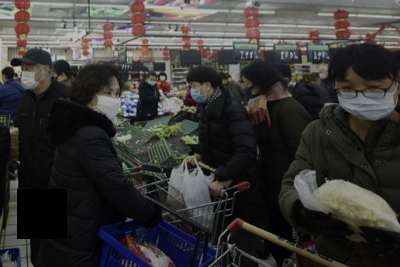with_mask: (336, 78, 397, 122), (94, 87, 122, 121), (19, 65, 41, 92), (190, 84, 207, 105), (244, 80, 257, 99), (147, 78, 159, 87), (318, 70, 328, 80), (159, 74, 167, 83)
